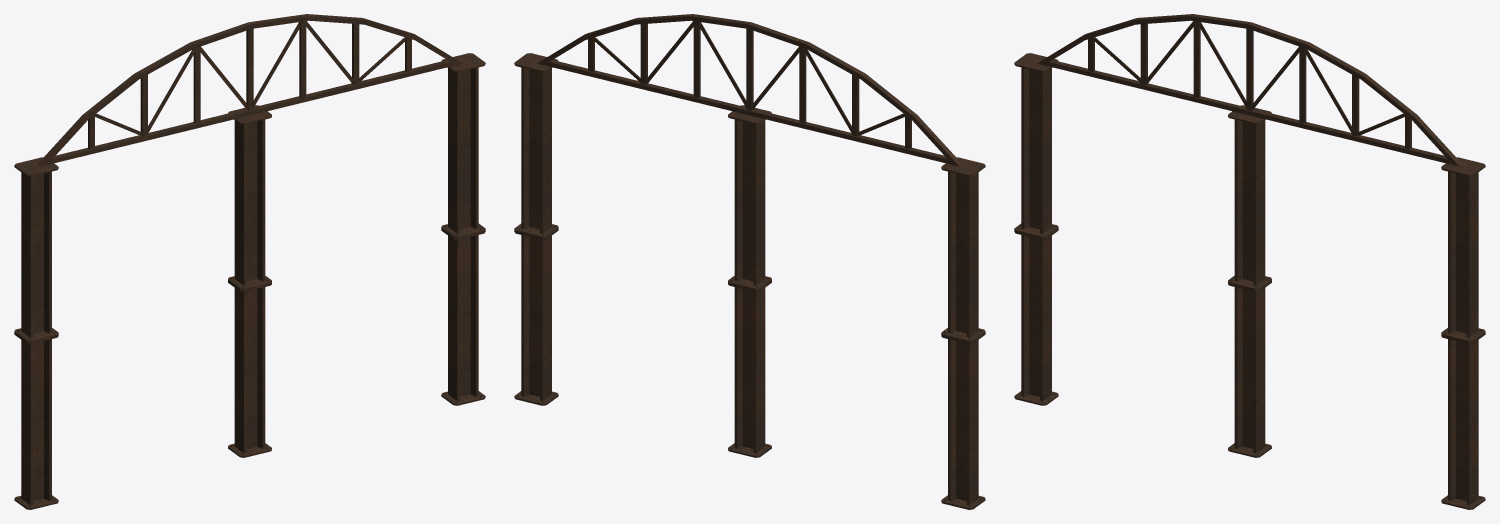
File: warehouse_hl_1_frame_piece.glb
3 views of the same model, side by side, from view 1: azimuth 30°, elevation 25°; view 2: azimuth 150°, elevation 25°; view 3: azimuth 330°, elevation 25° (orthographic).
Parts seen in each view (by area): view 1: warehouse_hl_1_frame_piece; view 2: warehouse_hl_1_frame_piece; view 3: warehouse_hl_1_frame_piece.
Part boxes in pixels (x1=…): warehouse_hl_1_frame_piece: x1=14, y1=14, x2=485, y2=509; warehouse_hl_1_frame_piece: x1=514, y1=14, x2=985, y2=509; warehouse_hl_1_frame_piece: x1=1014, y1=14, x2=1485, y2=509.
Bounding box in the file's own units: 8.6 × 7.62 × 0.5.
1 material, 1 textured.
